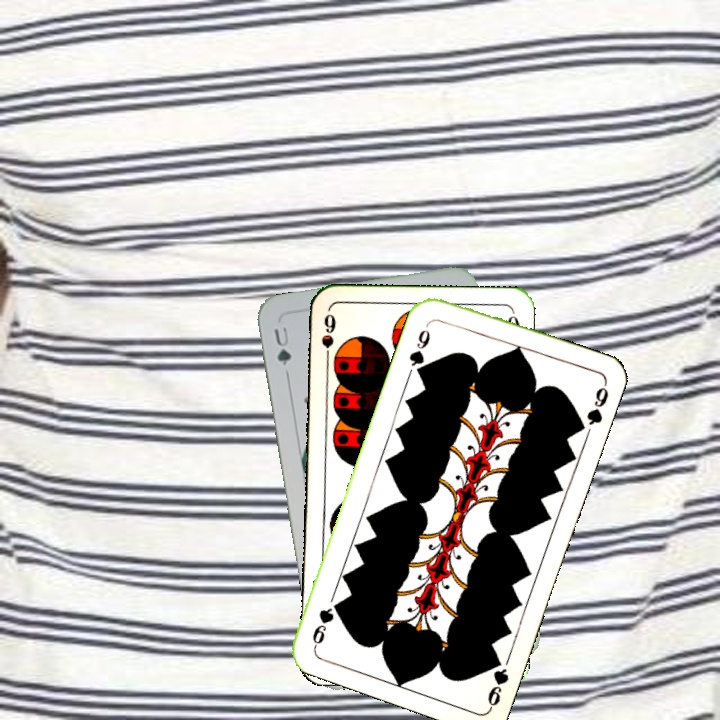G9: (483, 650, 511, 711), (405, 325, 433, 378)
GU: (269, 322, 294, 368)
S9: (317, 309, 339, 368)
